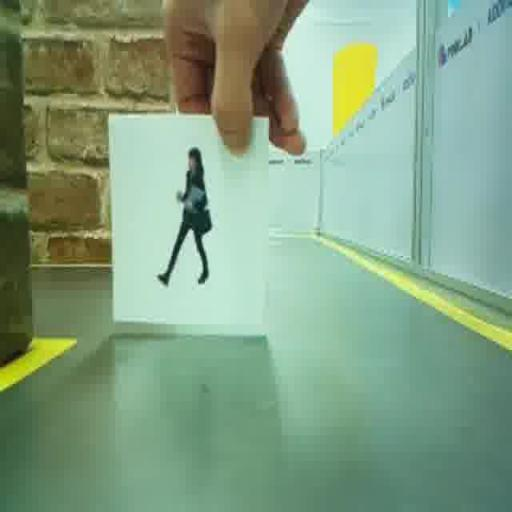human: (158, 147, 212, 285)
